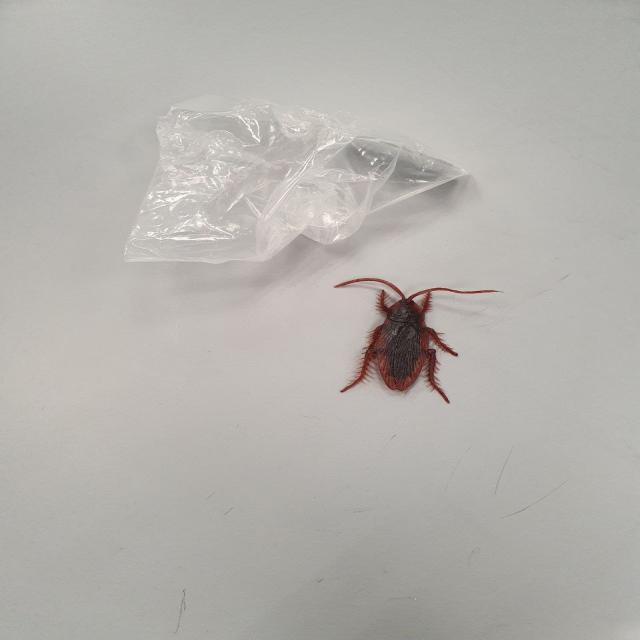Cockroach: (332, 272, 495, 396)
